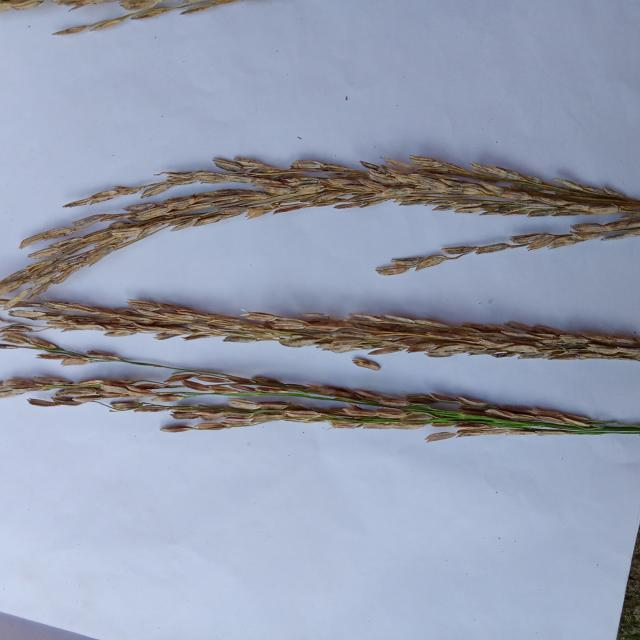Neck_Blast: (8, 162, 640, 294), (47, 297, 640, 361), (41, 372, 603, 426)
